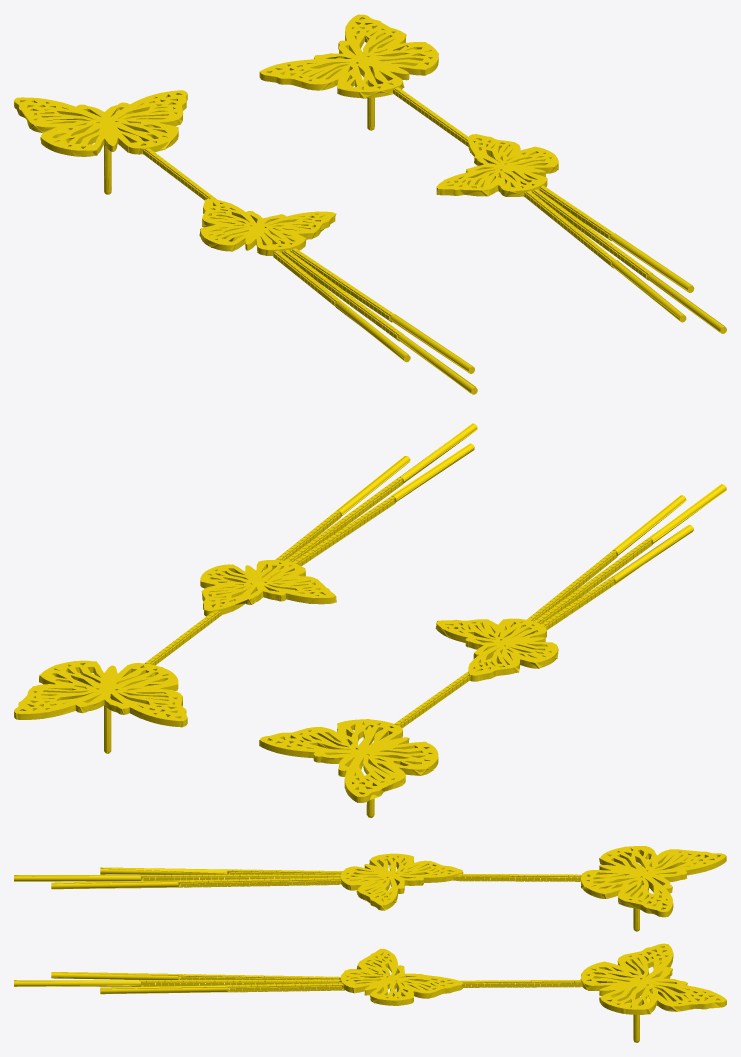
The model's file is GP-SAD0003034.glb.
The picture shows the model from 3 angles, top to bottom: view 1: azimuth 30°, elevation 25°; view 2: azimuth 150°, elevation 25°; view 3: azimuth 270°, elevation 25°; orthographic projection. The views are drawn at different scales.
Parts seen in each view (by area): view 1: lowPolyMesh, highPolyMesh; view 2: lowPolyMesh, highPolyMesh; view 3: lowPolyMesh, highPolyMesh.
Boxes of the visible parts, x1,y1,x2,y2 form: lowPolyMesh: (14, 14, 724, 393); highPolyMesh: (14, 14, 726, 394); lowPolyMesh: (15, 423, 726, 817); highPolyMesh: (14, 423, 726, 817); lowPolyMesh: (14, 846, 726, 1042); highPolyMesh: (14, 846, 726, 1042).
Size of the model in its own units: 0.047 by 0.00804 by 0.0864.
